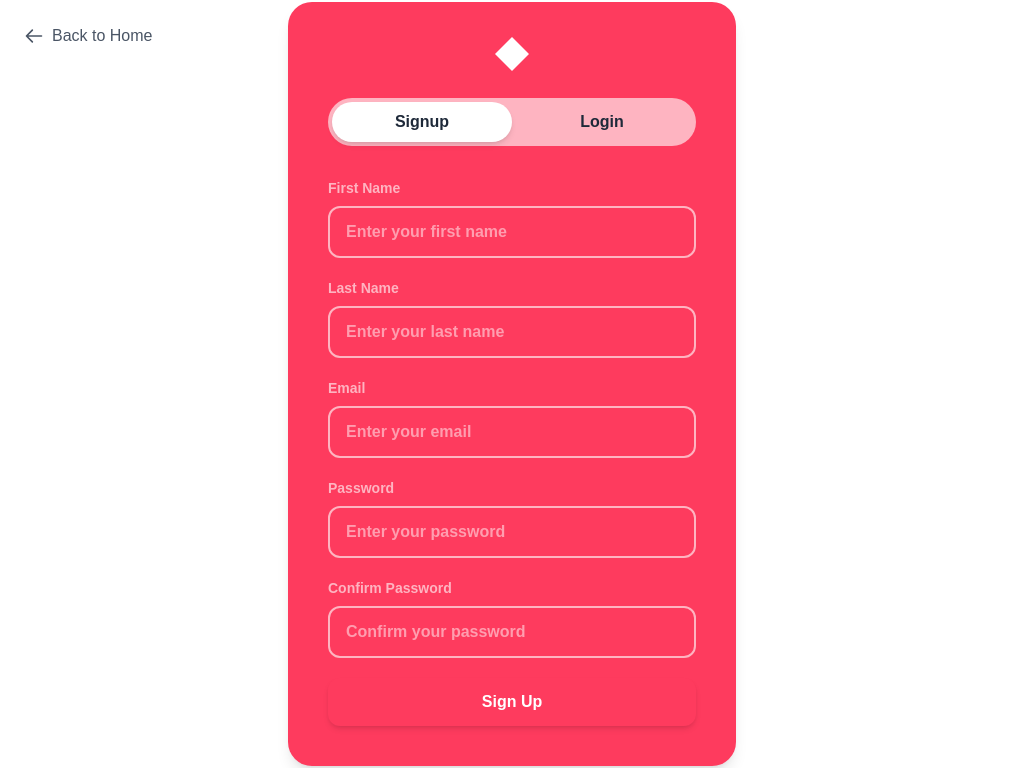
Test: RegisterPage › TC-084 [S-01]: shows the server-provided message when registration fails (e.g. duplicate email)
Type "Jane" into the field labelled "First Name".
click(512, 232); type("Jane")  # box [328,206,696,258]
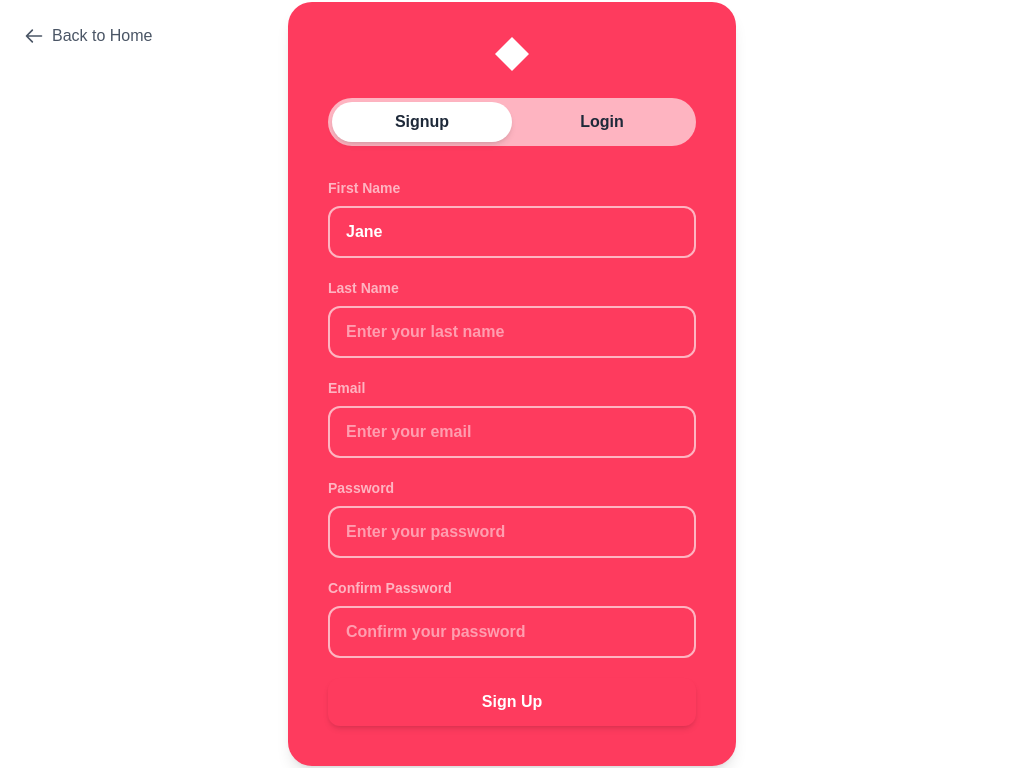
Type "Doe" into the field labelled "Last Name".
click(512, 332); type("Doe")  # box [328,306,696,358]
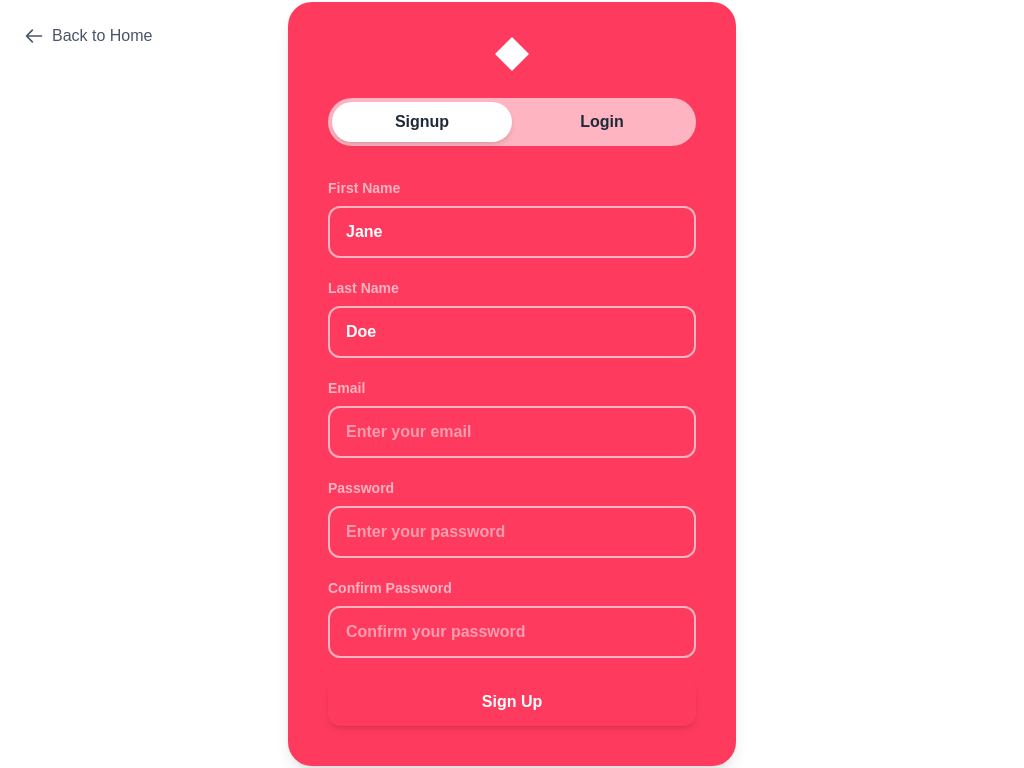
Type "jane@school.edu" into the field labelled "Email".
click(512, 432); type("jane@school.edu")  # box [328,406,696,458]
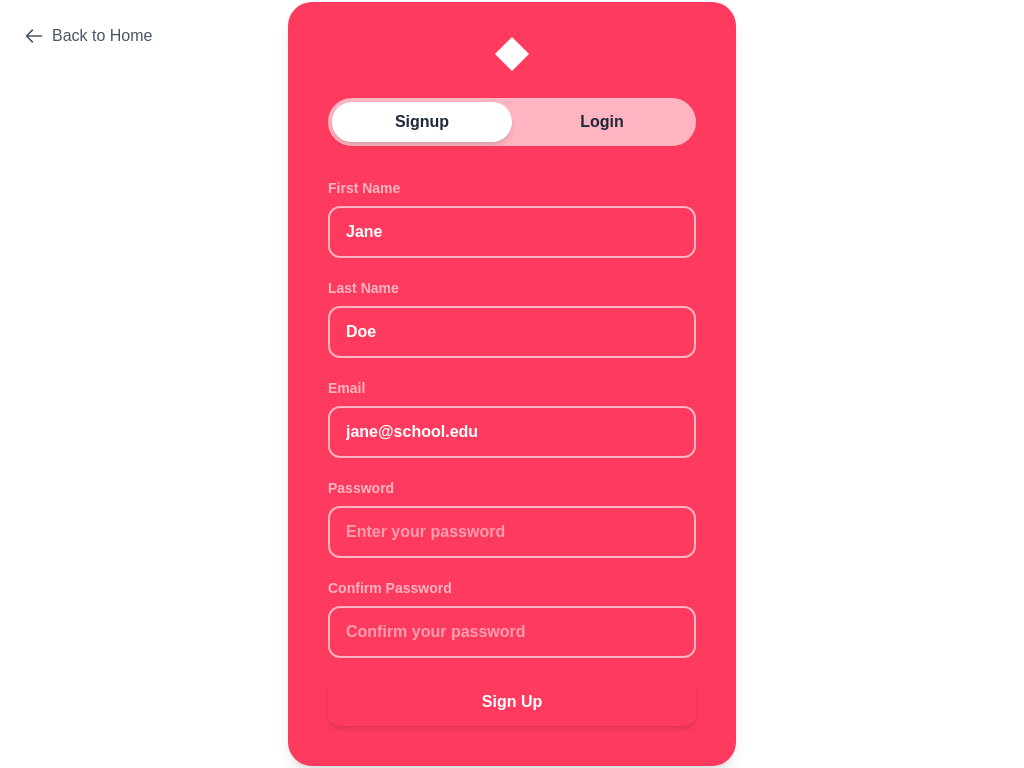
Type "Valid123!" into the password field labelled "Password".
click(512, 532); type("Valid123!")  # box [328,506,696,558]
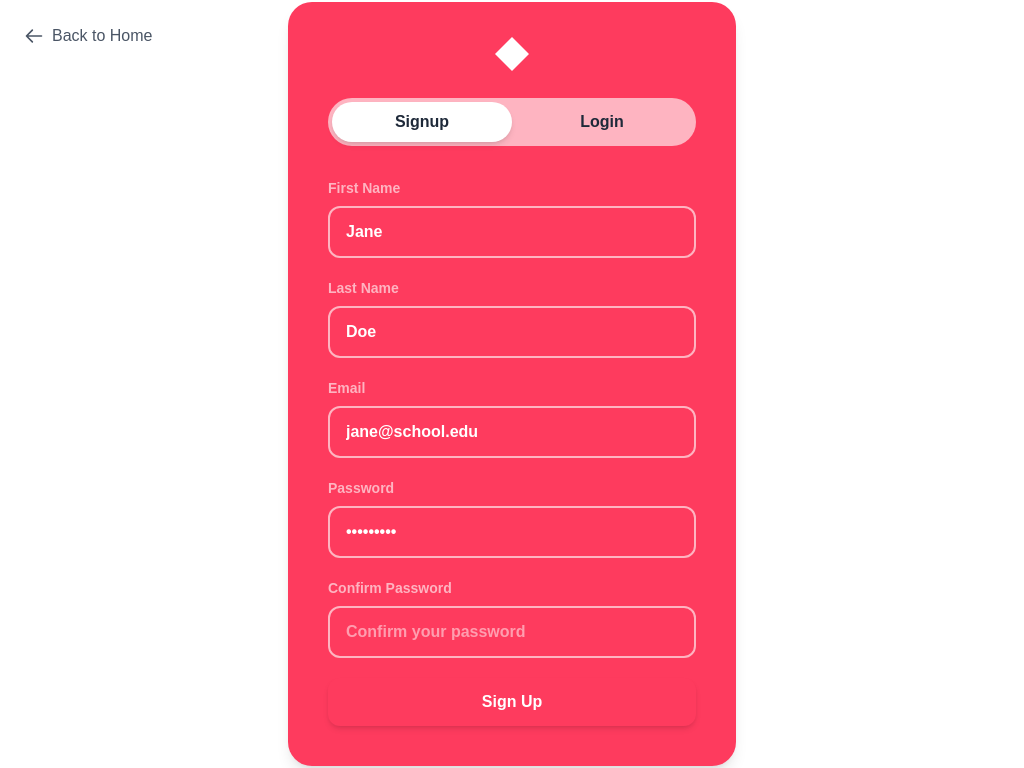
Type "Valid123!" into the password field labelled "Confirm Password".
click(512, 632); type("Valid123!")  # box [328,606,696,658]
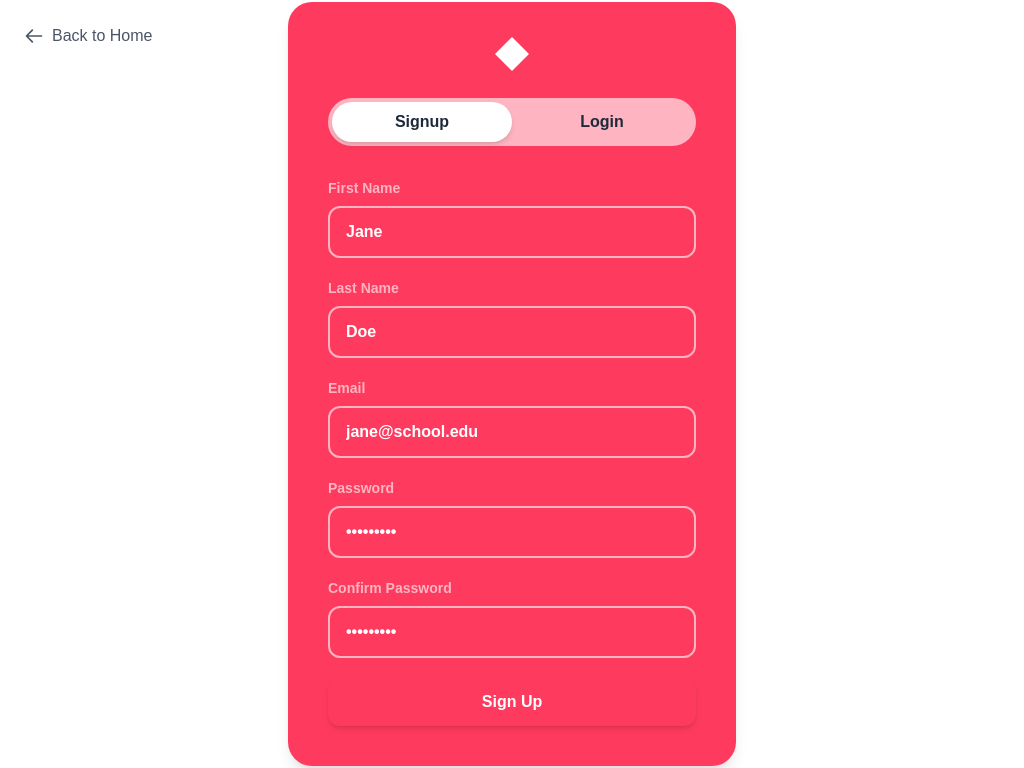
Click the button "Sign Up".
click(512, 702)  # box [328,678,696,726]
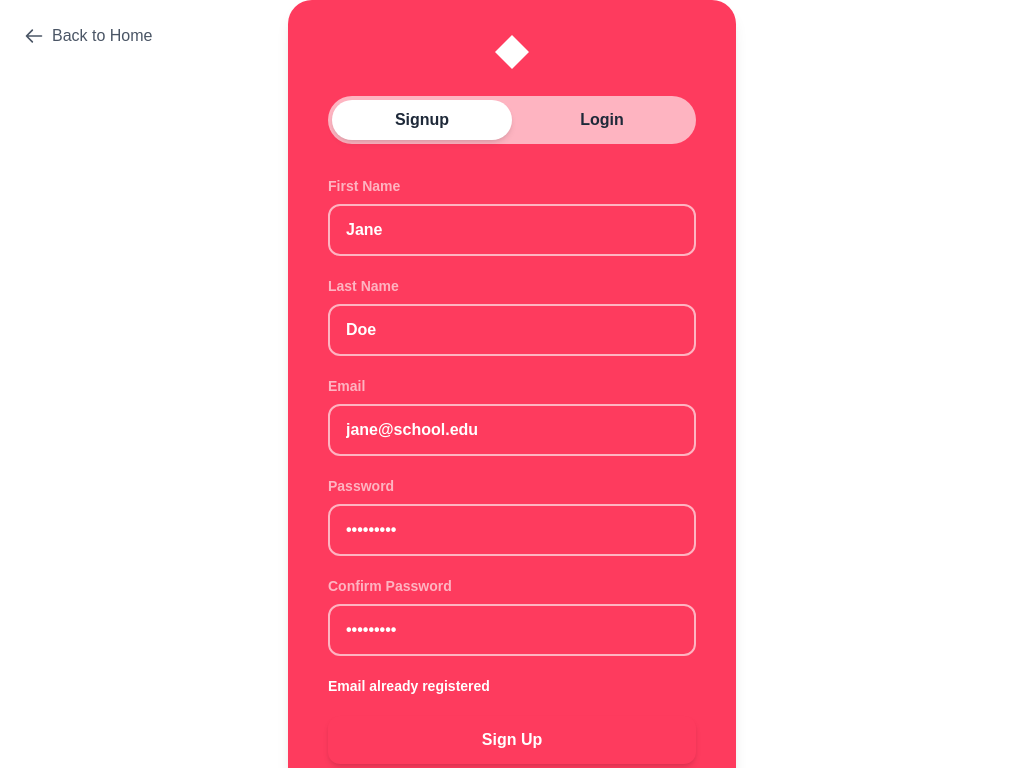
Expected: the text "Email already registered" is shown, [328,678,490,694]
